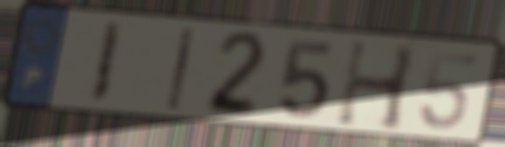2: (204, 27, 269, 120)
5: (416, 48, 479, 132), (277, 37, 340, 120)
H: (332, 35, 422, 134)
I: (85, 19, 125, 108), (164, 26, 197, 113)
